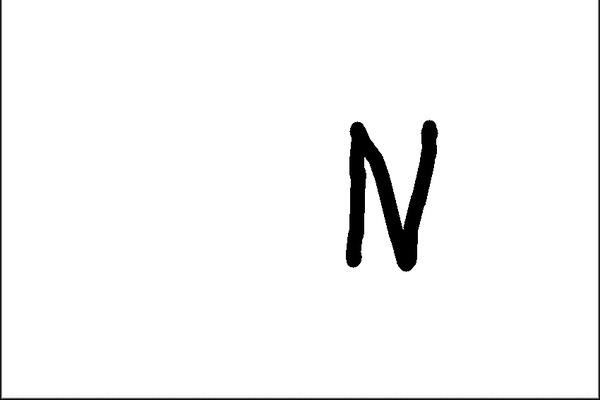N: (337, 110, 441, 277)
